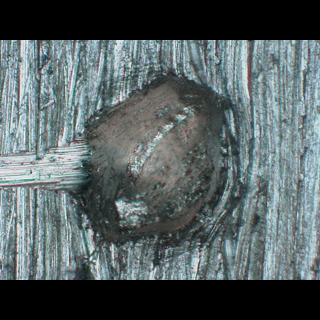d: (51, 61, 247, 258)
